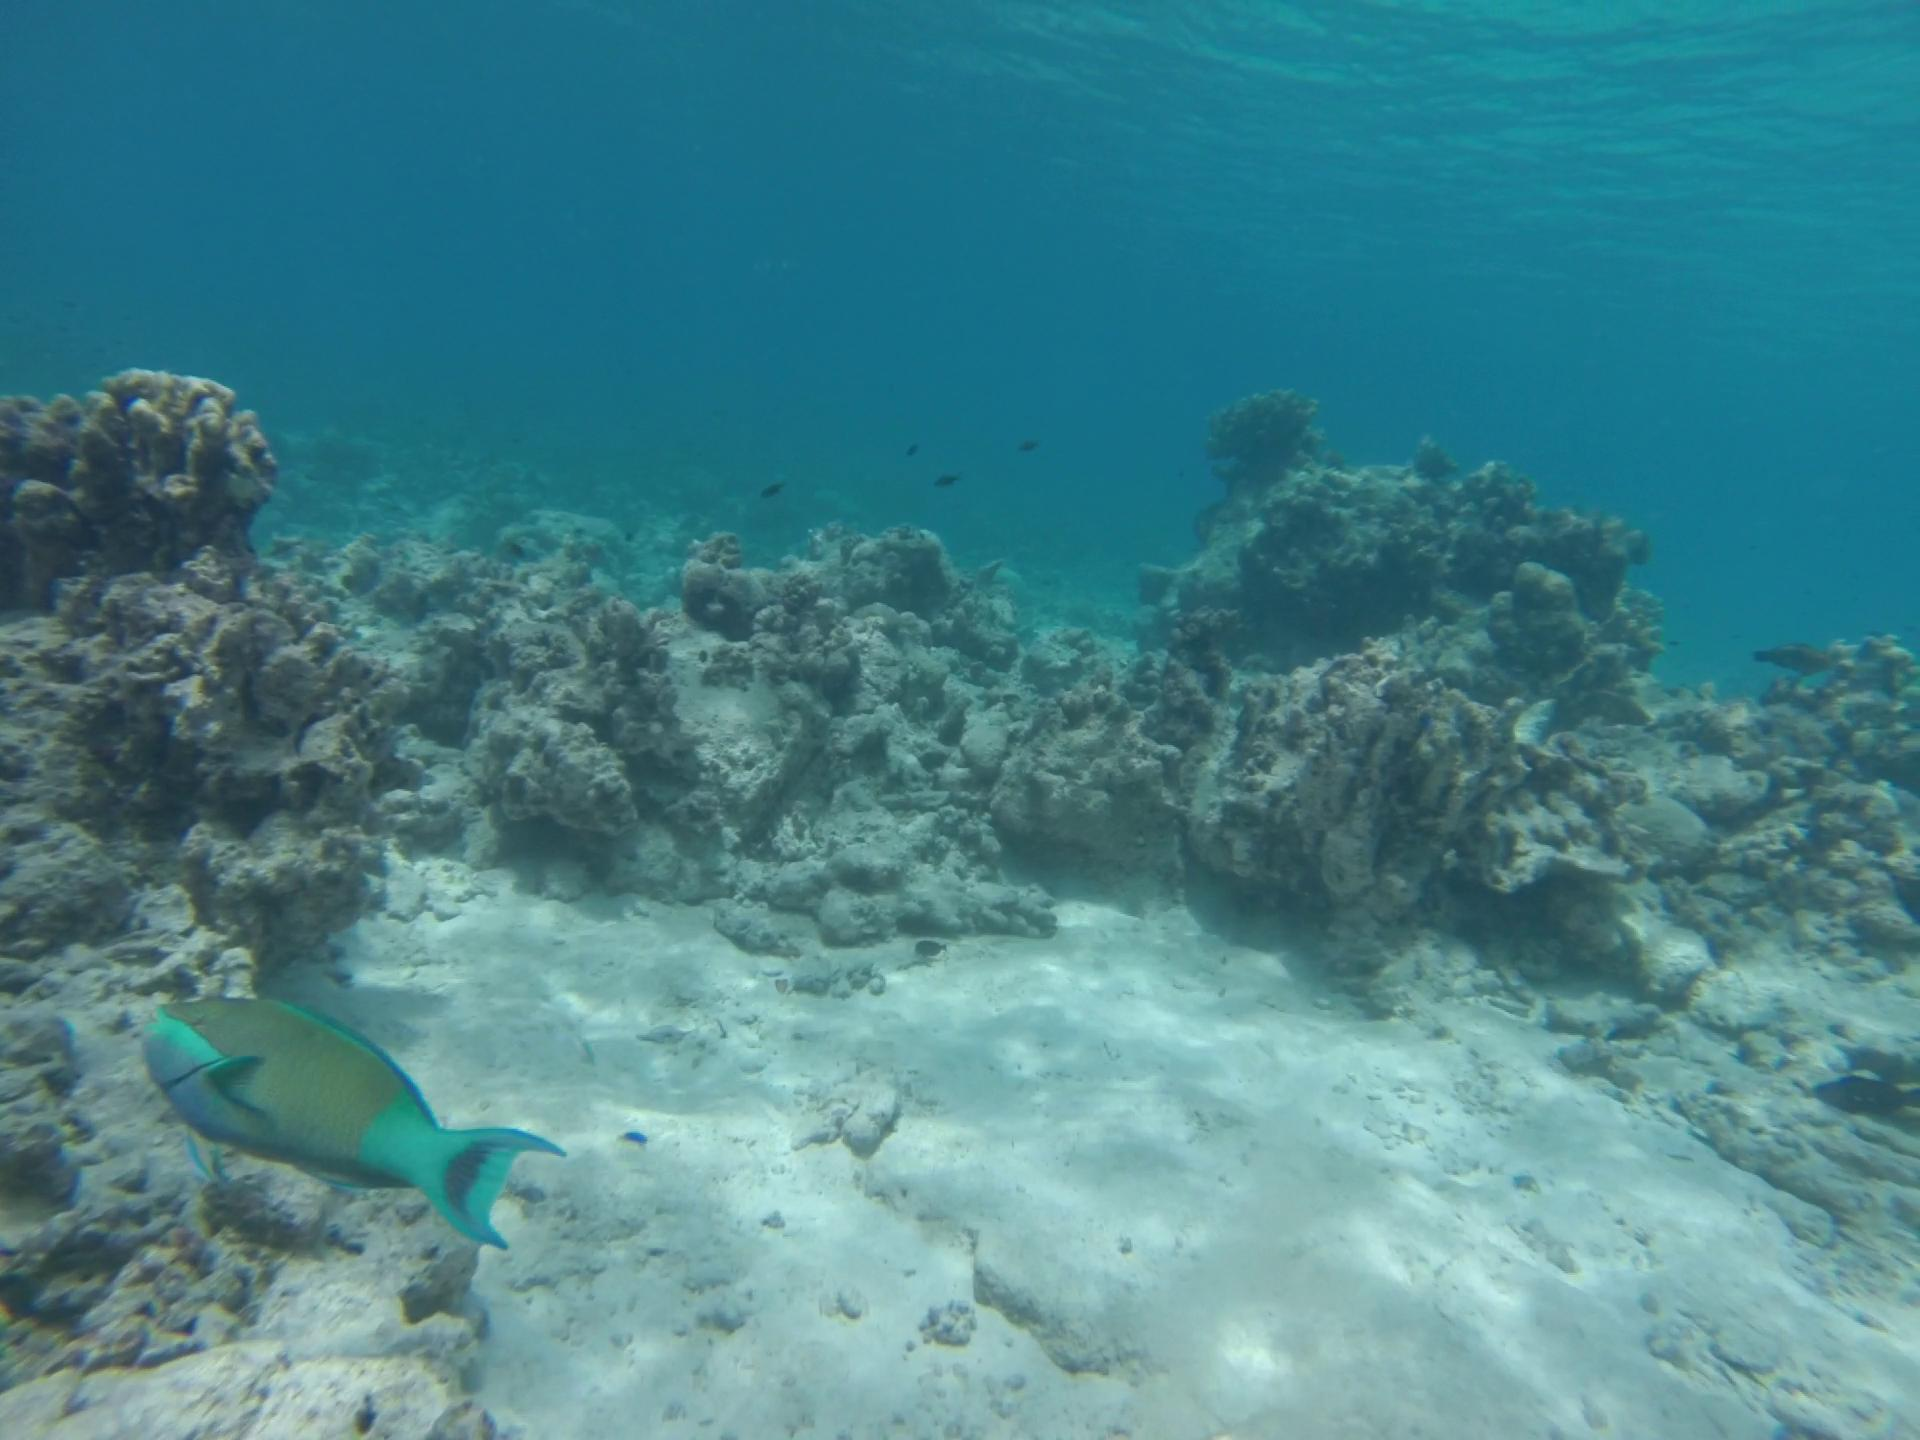Scarus ghobban: (80, 942, 581, 1304)
